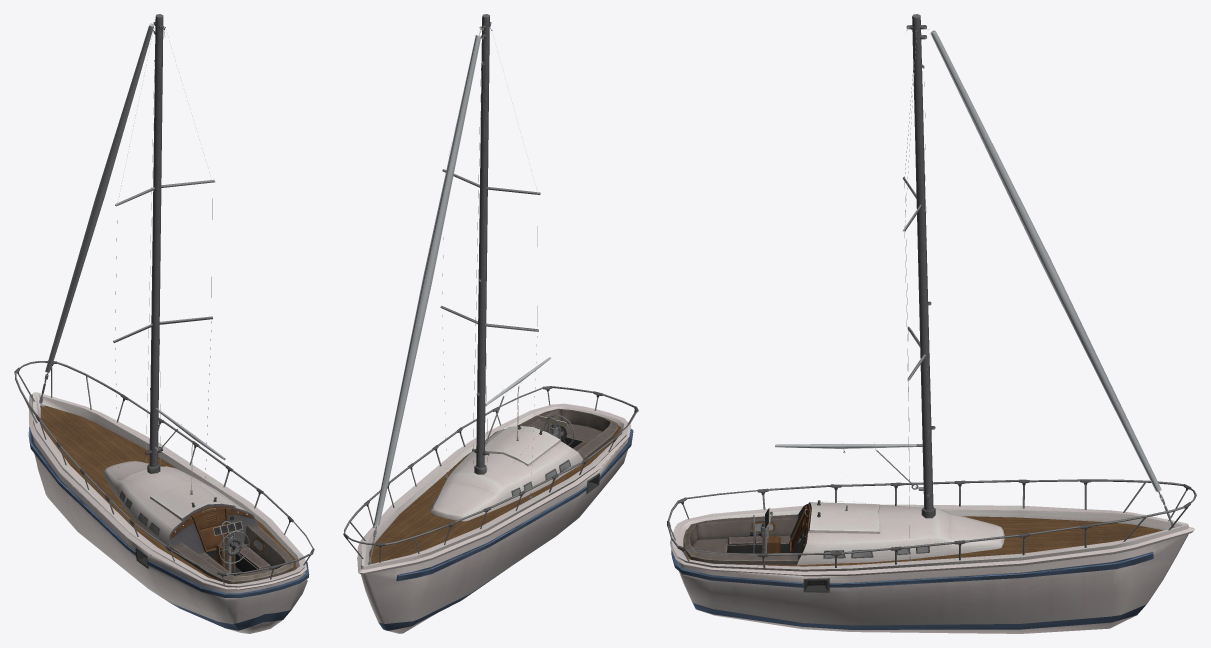
File: Sailboat.glb
3 renders of one model, left to right at view 1: azimuth 30°, elevation 25°; view 2: azimuth 150°, elevation 25°; view 3: azimuth 270°, elevation 25°, orthographic. The views are drawn at different scales.
Visible parts, largest first — view 1: Sailboat__LOD4; view 2: Sailboat__LOD4; view 3: Sailboat__LOD4.
Part boxes in pixels (x1,y1,x2,y2): Sailboat__LOD4: (14,14,314,633); Sailboat__LOD4: (343,14,638,633); Sailboat__LOD4: (667,14,1196,633).
Bounding box in the file's own units: 4.07 × 16.88 × 13.17.
Materials: 1 (1 with a texture image).
